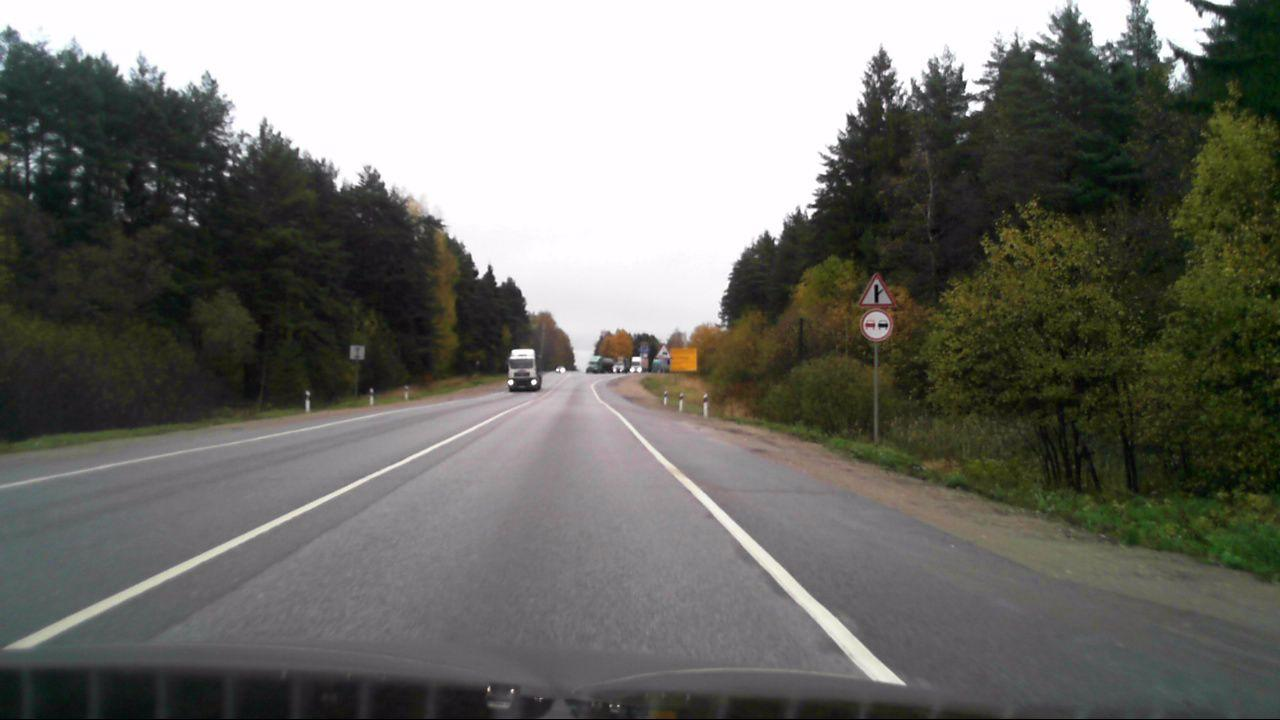1_19: (651, 342, 674, 361)
2_3_4: (860, 274, 893, 306)
3_20: (859, 309, 893, 340)
